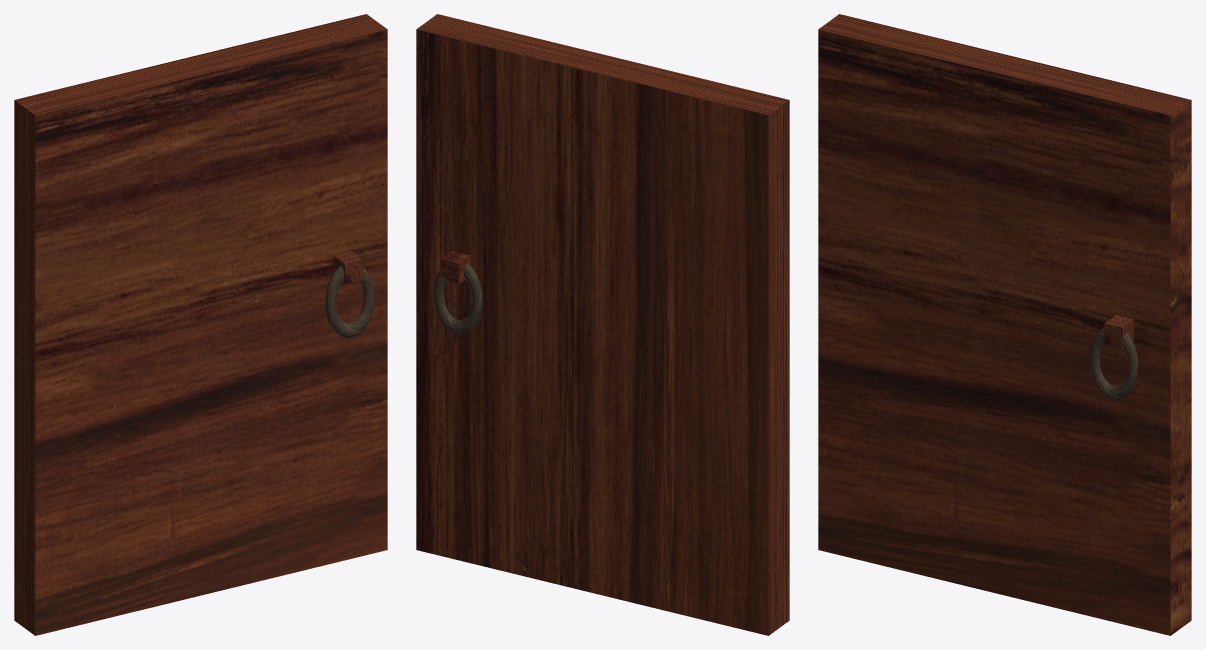
The model's file is PintuPagerr.fbx.
3 views of the same model, side by side, from view 1: azimuth 30°, elevation 25°; view 2: azimuth 150°, elevation 25°; view 3: azimuth 330°, elevation 25° (orthographic).
Parts seen in each view (by area): view 1: pintu oagar; view 2: pintu oagar; view 3: pintu oagar.
Boxes of the visible parts, x1,y1,x2,y2 form: pintu oagar: (14, 14, 387, 635); pintu oagar: (416, 14, 789, 635); pintu oagar: (818, 14, 1191, 635).
Bounding box in the file's own units: 185 × 261 × 41.51.
